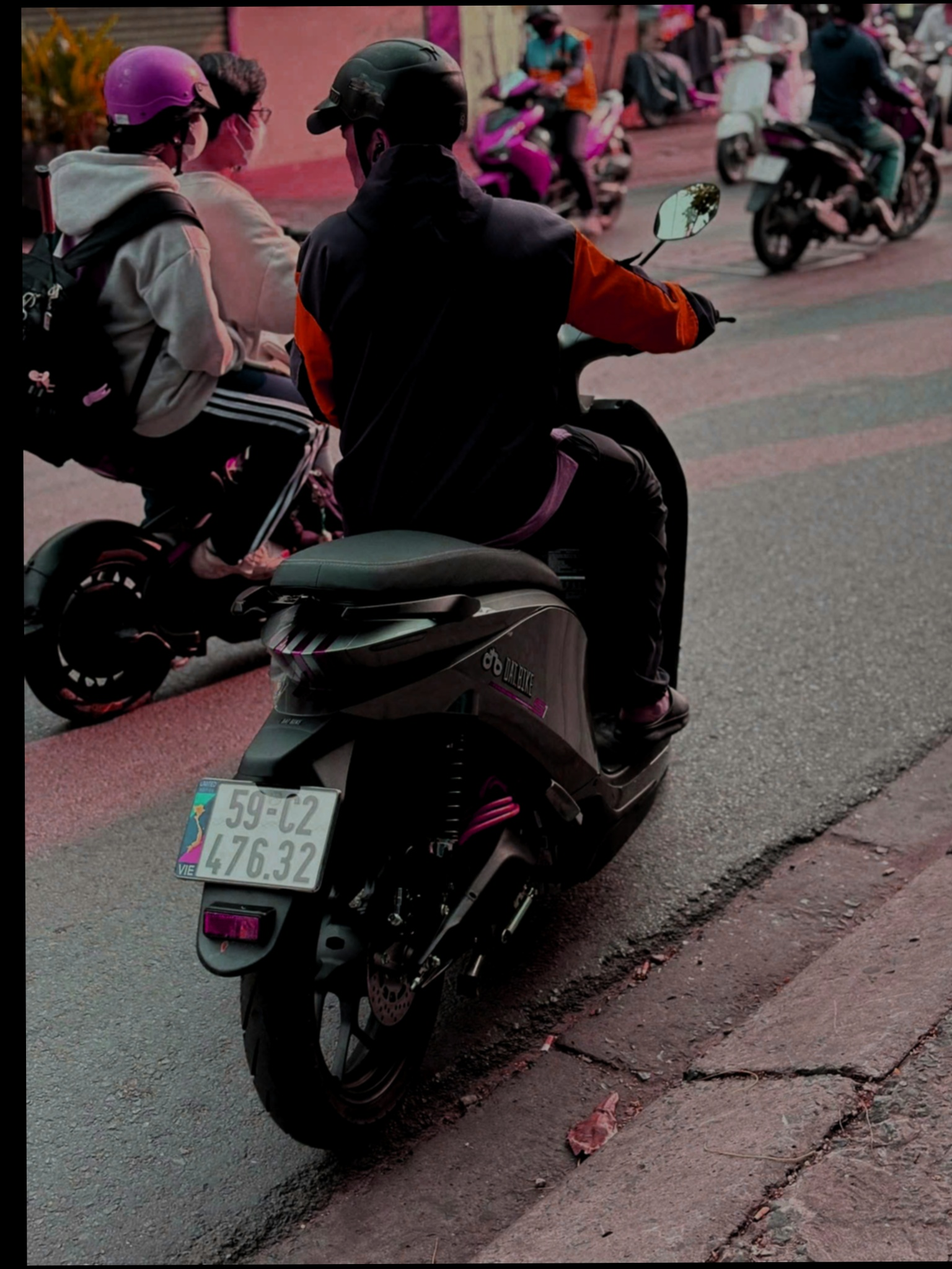Bien-so: (197, 777, 337, 896)
